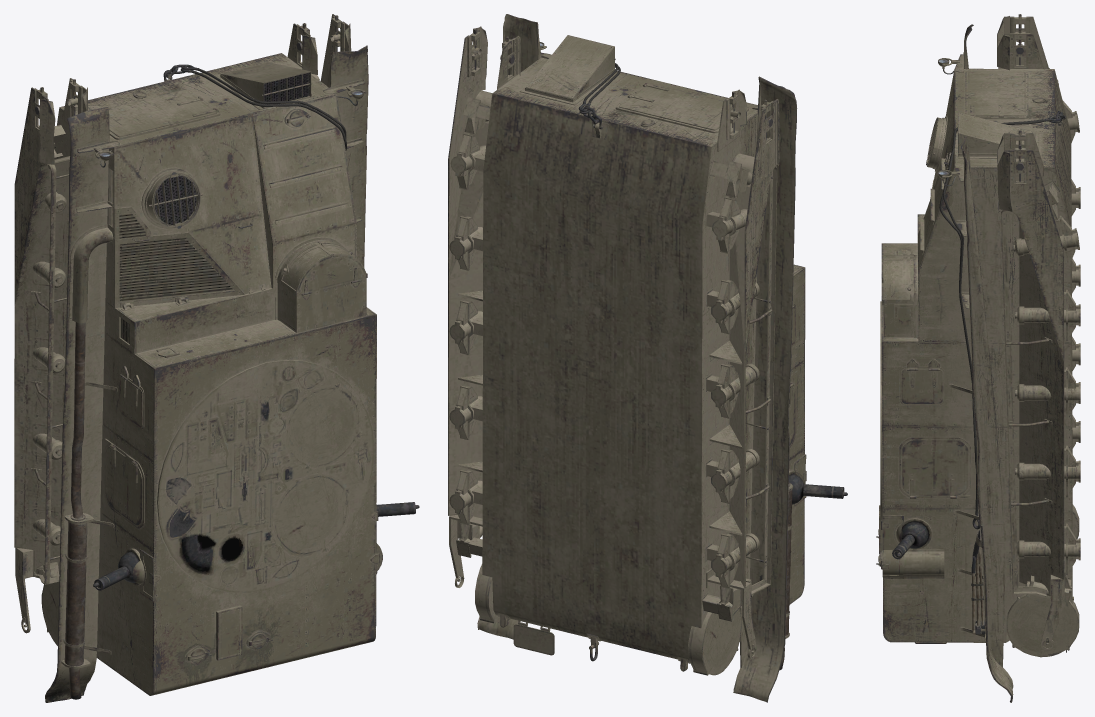
File: Hull.glb
The picture shows the model from 3 angles, left to right: view 1: azimuth 30°, elevation 25°; view 2: azimuth 150°, elevation 25°; view 3: azimuth 270°, elevation 25°; orthographic projection. The views are drawn at different scales.
Parts seen in each view (by area): view 1: set_0_group_0; view 2: set_0_group_0; view 3: set_0_group_0.
Boxes of the visible parts, bbox=[...] form: set_0_group_0: bbox=[14, 14, 419, 702]; set_0_group_0: bbox=[448, 14, 847, 702]; set_0_group_0: bbox=[876, 14, 1080, 702].
Bounding box in the file's own units: 2.87 × 5.17 × 1.72.
Materials: 1 (1 with a texture image).
